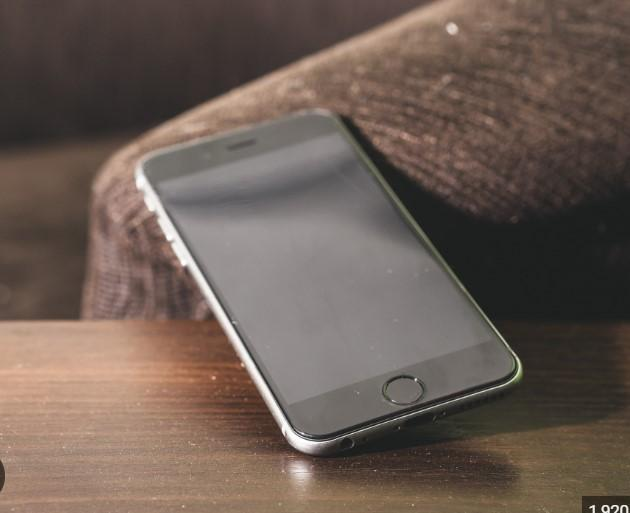Smart Phone: (135, 109, 525, 459)
